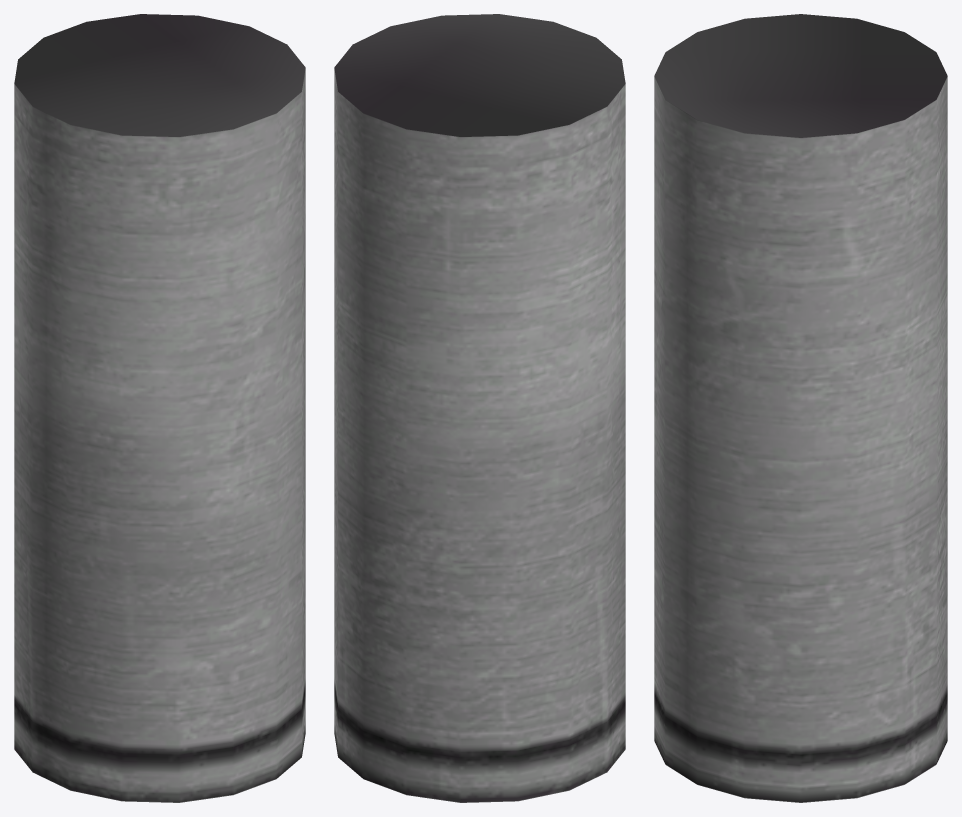
The model's file is Ammo_02.fbx.
3 renders of one model, left to right at view 1: azimuth 30°, elevation 25°; view 2: azimuth 150°, elevation 25°; view 3: azimuth 270°, elevation 25°, orthographic.
Visible parts, largest first — view 1: Cylinder001; view 2: Cylinder001; view 3: Cylinder001.
Boxes of the visible parts, x1,y1,x2,y2 form: Cylinder001: (14,14,305,802); Cylinder001: (334,14,625,802); Cylinder001: (654,14,947,802).
Size of the model in its own units: 0.02 by 0.05 by 0.02.
